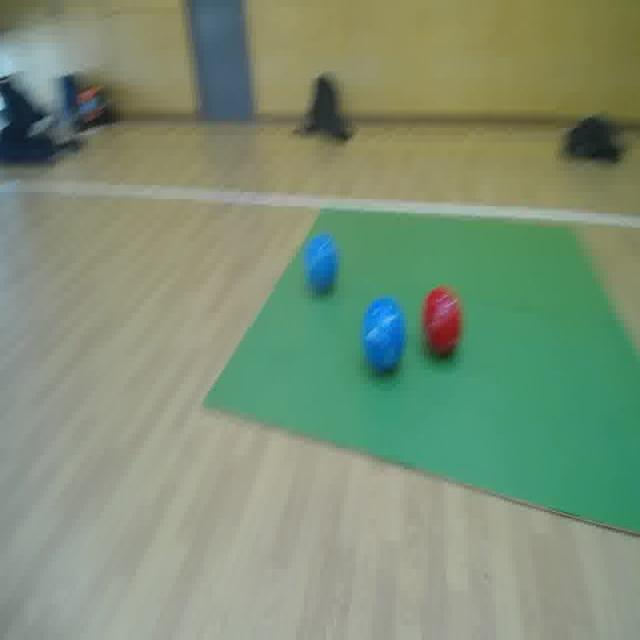blue_ball: (360, 296, 406, 376), (304, 235, 342, 297)
red_ball: (420, 284, 466, 362)
